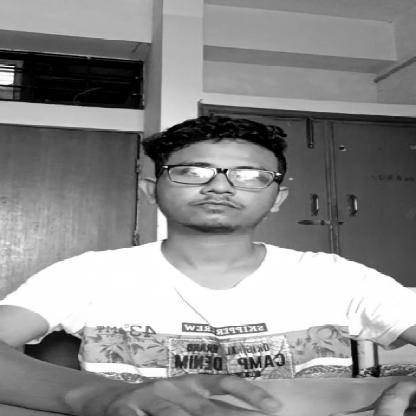Normal: (157, 137, 282, 225)
